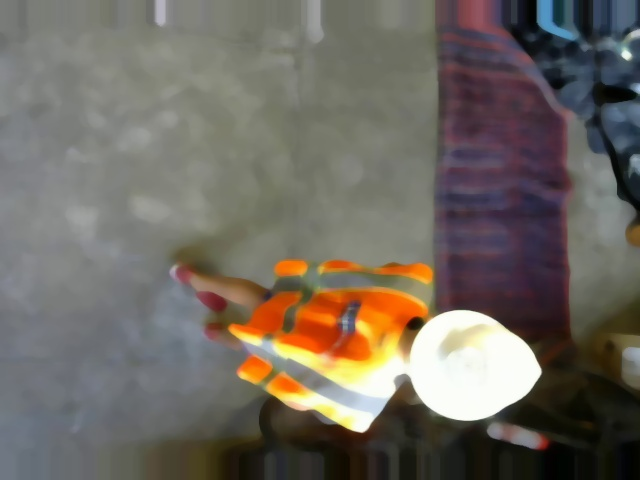eight: (442, 344, 493, 388)
